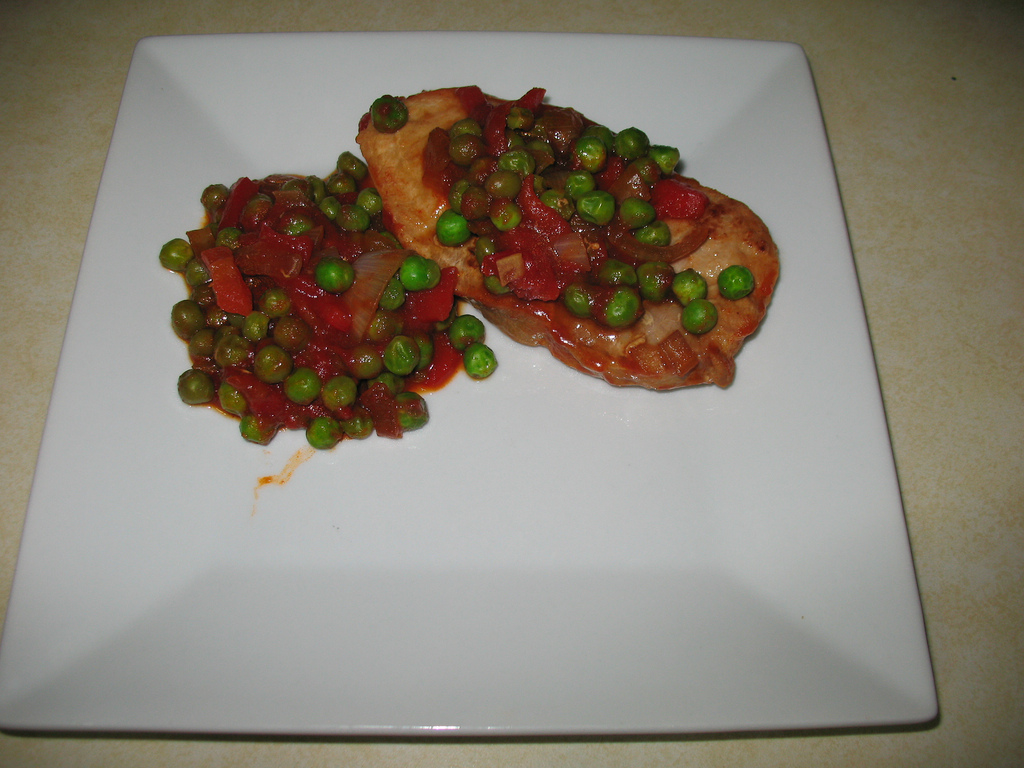boiled peas: (171, 269, 496, 447), (458, 111, 700, 322)
